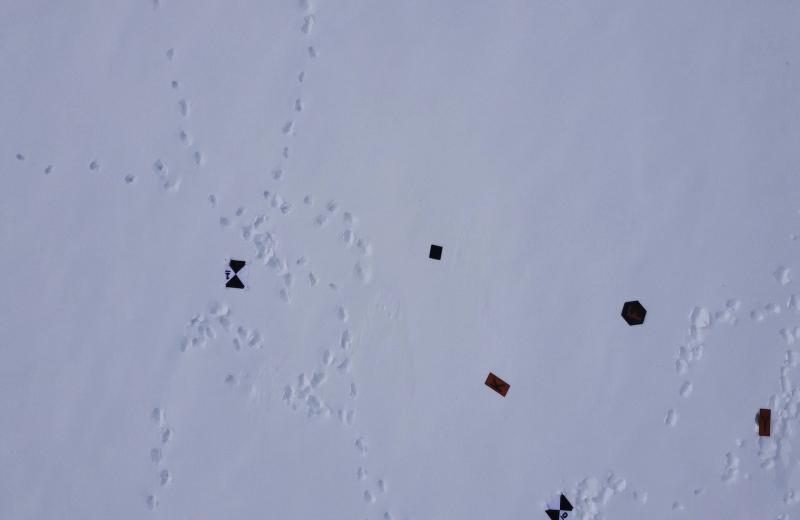Hexagon: (618, 296, 648, 330)
Rectangle: (483, 367, 512, 401), (750, 406, 778, 438)
Square: (425, 238, 447, 262)
